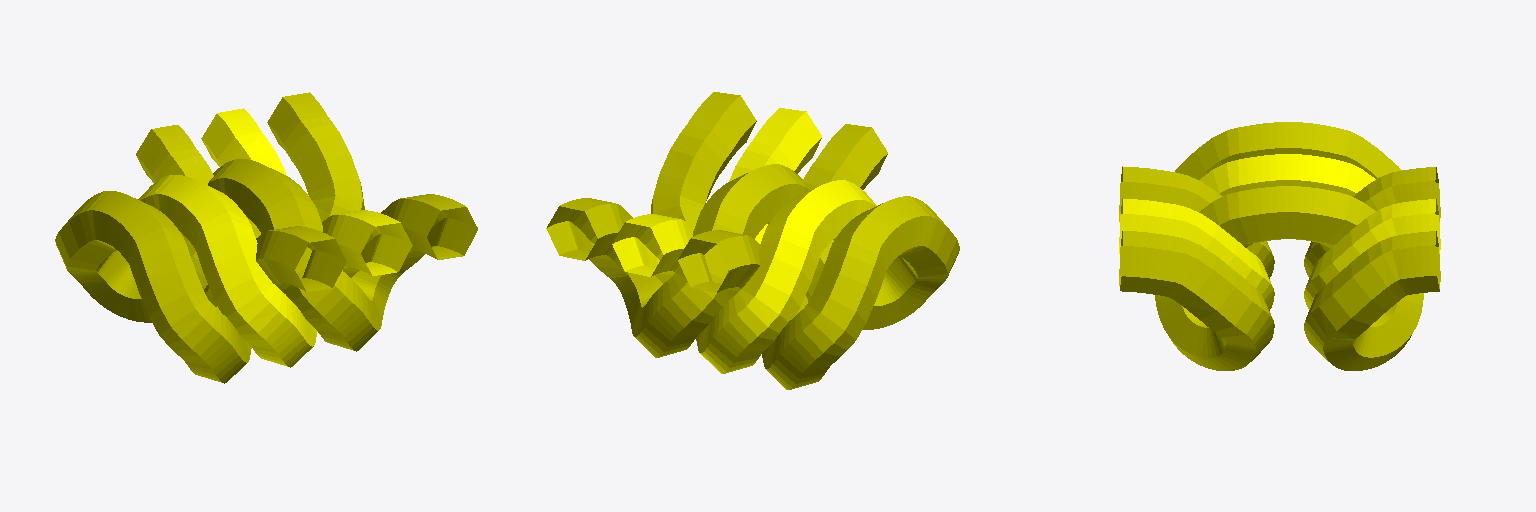
Rendered from stich2.obj.
3 renders of one model, left to right at view 1: azimuth 30°, elevation 25°; view 2: azimuth 150°, elevation 25°; view 3: azimuth 270°, elevation 25°, orthographic.
Size of the model in its own units: 2.18 by 1.15 by 2.12.